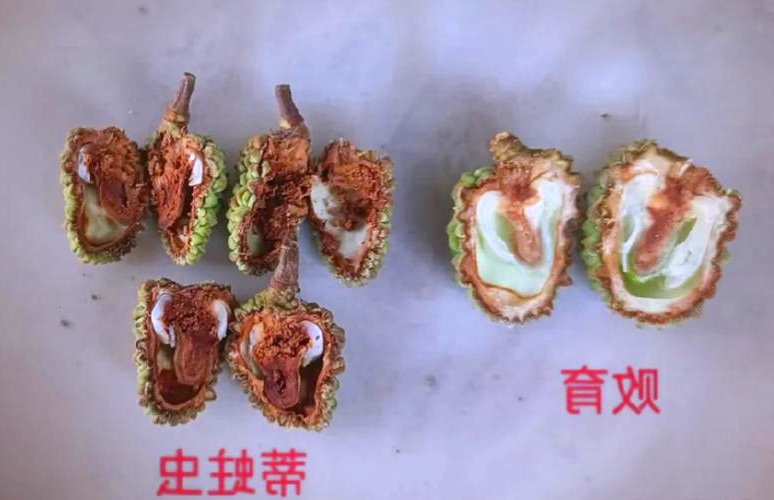Borer: (144, 279, 179, 352), (269, 323, 335, 361), (75, 148, 94, 211), (179, 128, 198, 185), (212, 300, 226, 347)
